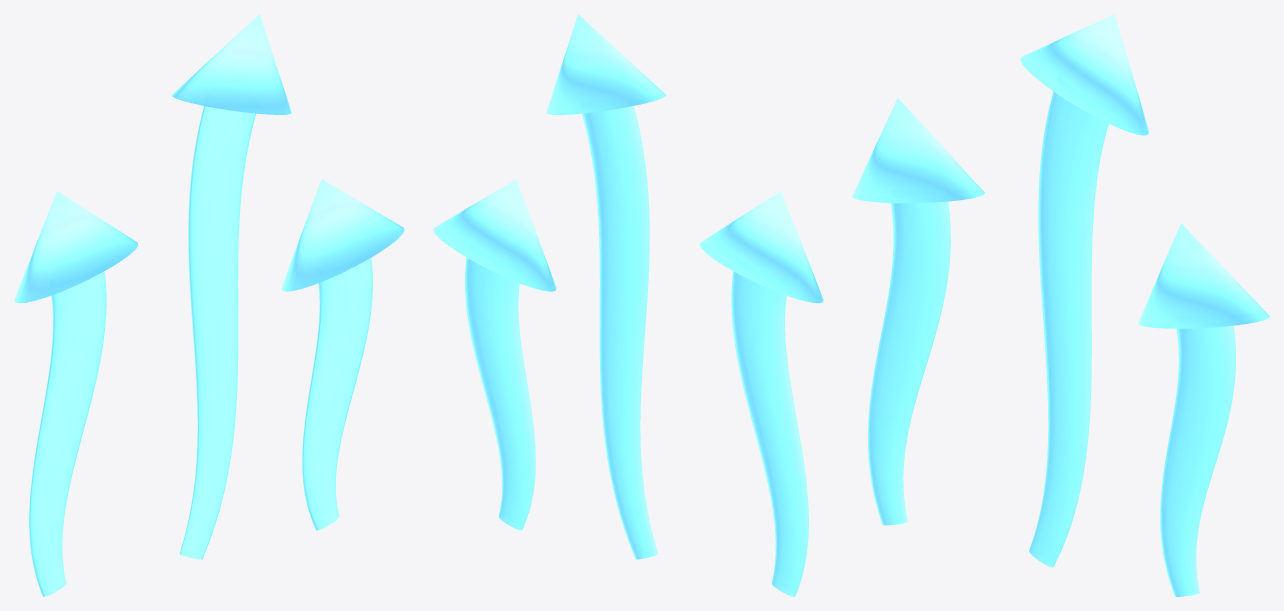
Rendered from up-arrows.glb.
3 renders of one model, left to right at view 1: azimuth 30°, elevation 25°; view 2: azimuth 150°, elevation 25°; view 3: azimuth 330°, elevation 25°, orthographic. The views are drawn at different scales.
Parts seen in each view (by area): view 1: up_1, up_0, up_2; view 2: up_1, up_0, up_2; view 3: up_1, up_0, up_2.
Boxes of the visible parts, x1=… form: up_1: x1=171, y1=14, x2=291, y2=559; up_0: x1=14, y1=191, x2=138, y2=596; up_2: x1=281, y1=179, x2=404, y2=530; up_1: x1=546, y1=14, x2=666, y2=559; up_0: x1=699, y1=191, x2=823, y2=596; up_2: x1=433, y1=179, x2=556, y2=530; up_1: x1=1020, y1=14, x2=1148, y2=567; up_0: x1=852, y1=98, x2=984, y2=525; up_2: x1=1138, y1=223, x2=1269, y2=596.
Bounding box in the file's own units: 1.57 × 2.04 × 0.1518.
